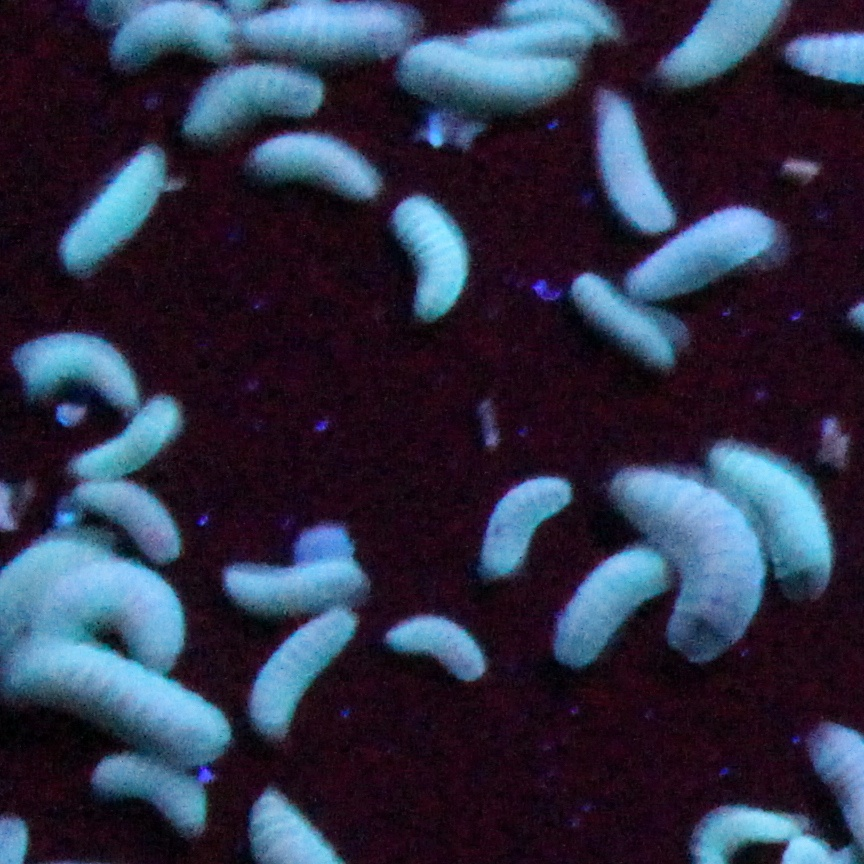larve: (605, 476, 774, 650), (19, 636, 225, 764), (50, 152, 174, 284), (248, 604, 362, 736), (719, 444, 825, 581), (626, 216, 790, 296), (582, 100, 682, 228), (238, 122, 384, 207), (58, 396, 190, 484), (548, 556, 668, 650), (471, 467, 574, 576), (182, 60, 318, 132), (6, 336, 142, 408), (98, 16, 254, 76), (578, 276, 678, 368), (410, 56, 586, 108), (217, 564, 379, 616), (402, 204, 466, 328), (91, 761, 214, 824), (254, 8, 418, 48), (391, 604, 482, 676), (466, 24, 570, 60)
